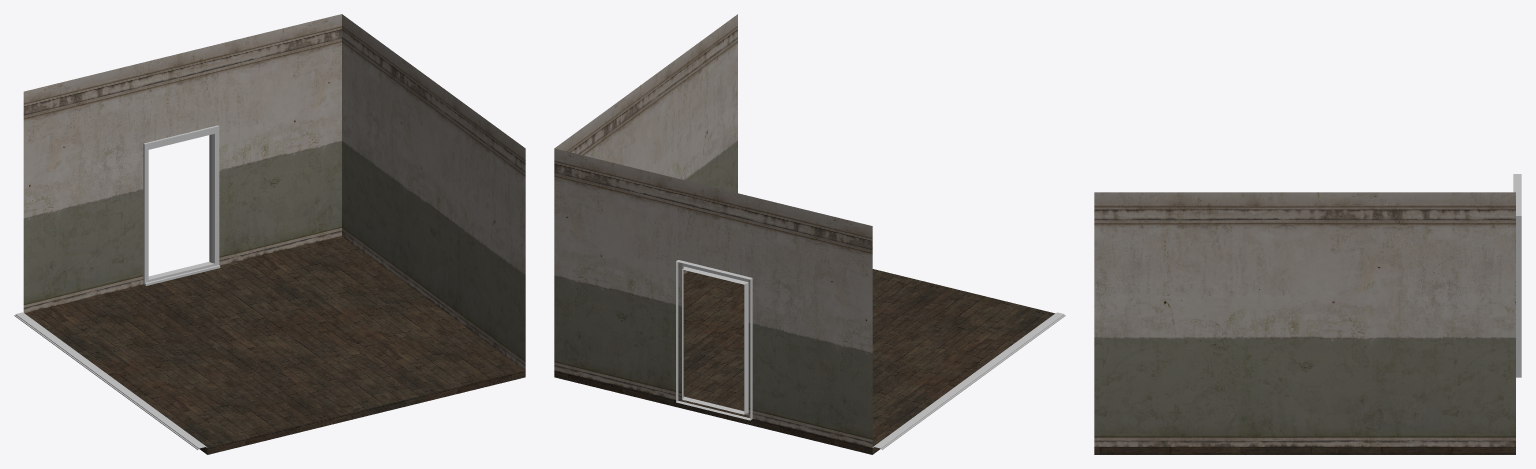
File: hallway_end_corner_door_left.fbx
3 renders of one model, left to right at view 1: azimuth 30°, elevation 25°; view 2: azimuth 150°, elevation 25°; view 3: azimuth 270°, elevation 25°, orthographic. The views are drawn at different scales.
Parts seen in each view (by area): view 1: hallway_end_corner_door_left; view 2: hallway_end_corner_door_left; view 3: hallway_end_corner_door_left.
Part boxes in pixels (x1,y1,x2,y2): hallway_end_corner_door_left: [14, 14, 525, 454]; hallway_end_corner_door_left: [554, 14, 1065, 454]; hallway_end_corner_door_left: [1094, 174, 1521, 454].
Bounding box in the file's own units: 618 × 412 × 608.
